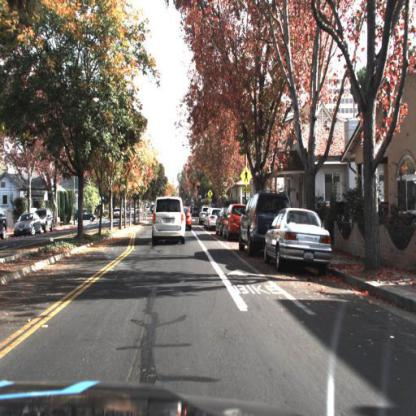car: (262, 198, 334, 278), (238, 189, 294, 253), (141, 193, 192, 247), (237, 189, 263, 252), (222, 203, 245, 240), (12, 210, 43, 237), (223, 201, 242, 244), (74, 205, 98, 223), (41, 206, 56, 234), (183, 204, 193, 235), (182, 202, 192, 231)
